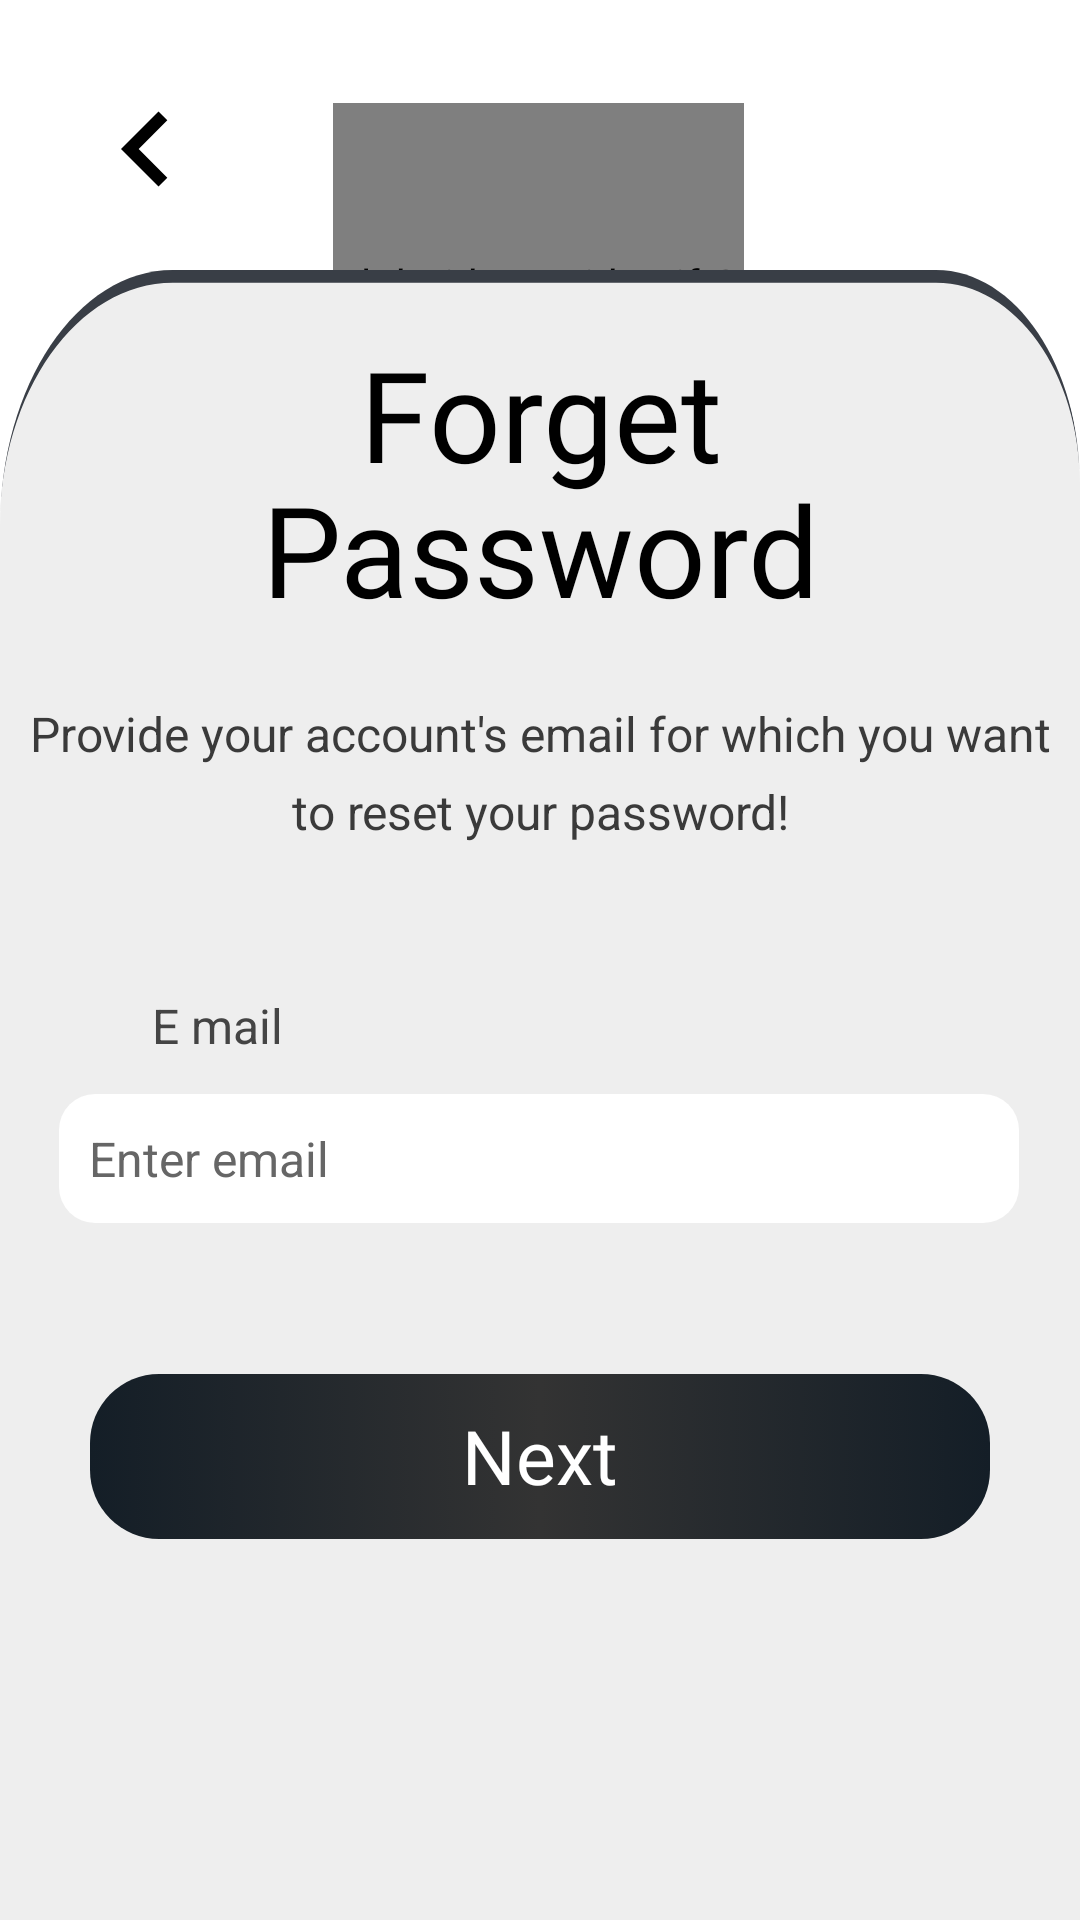

Named icons in this screenshot (1080×1920) and their centers, [x,y]:
chevron left: [144,149]
